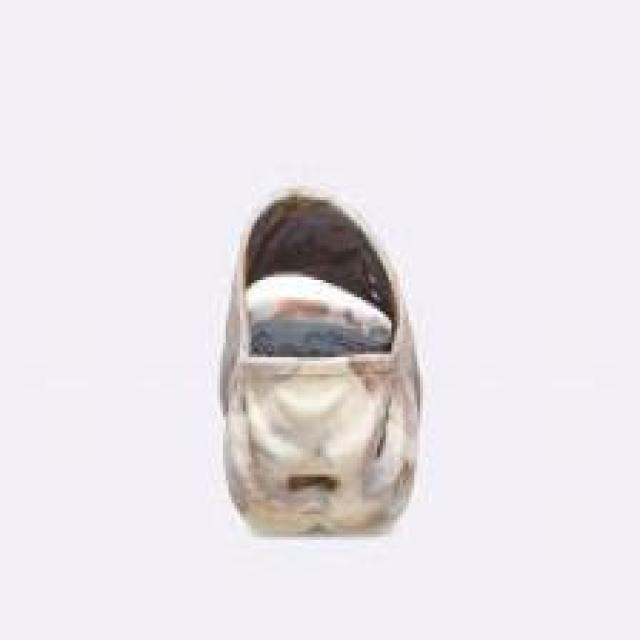shoe: (221, 189, 424, 535)
